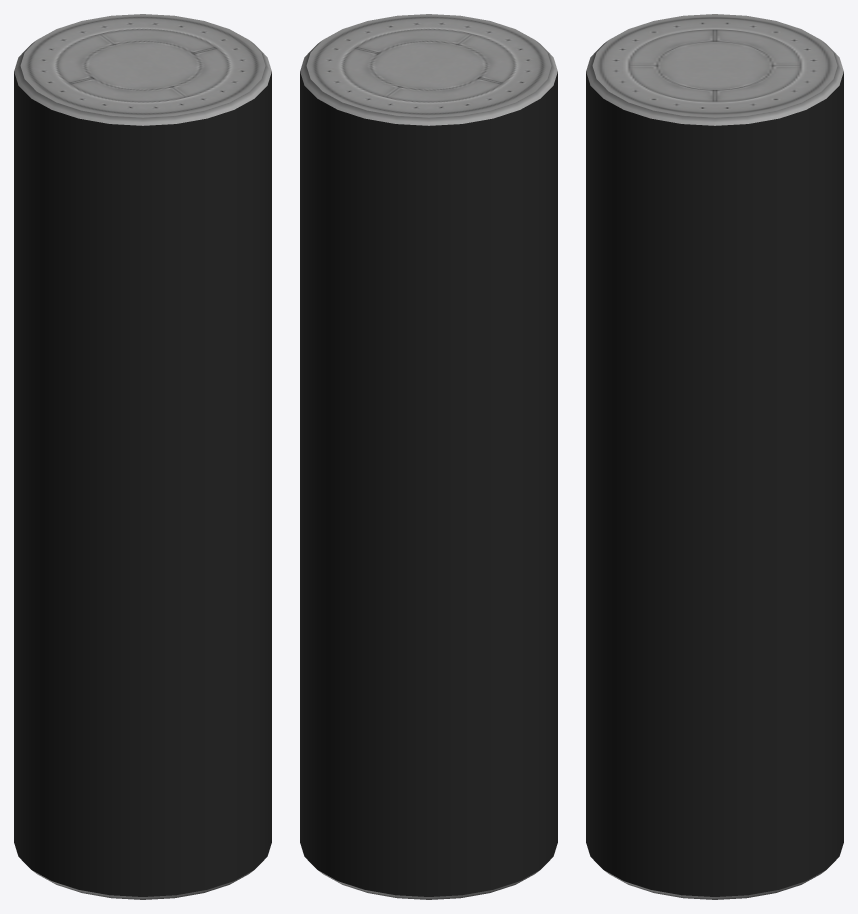
Rendered from CLV_1_LFO_2.obj.
3 renders of one model, left to right at view 1: azimuth 30°, elevation 25°; view 2: azimuth 150°, elevation 25°; view 3: azimuth 270°, elevation 25°, orthographic.
Parts seen in each view (by area): view 1: CLV_1_LFO_2; view 2: CLV_1_LFO_2; view 3: CLV_1_LFO_2.
Boxes of the visible parts, x1=… form: CLV_1_LFO_2: x1=14, y1=14, x2=271, y2=899; CLV_1_LFO_2: x1=300, y1=14, x2=557, y2=899; CLV_1_LFO_2: x1=586, y1=14, x2=843, y2=899.
Bounding box in the file's own units: 1.25 × 4.18 × 1.25.
